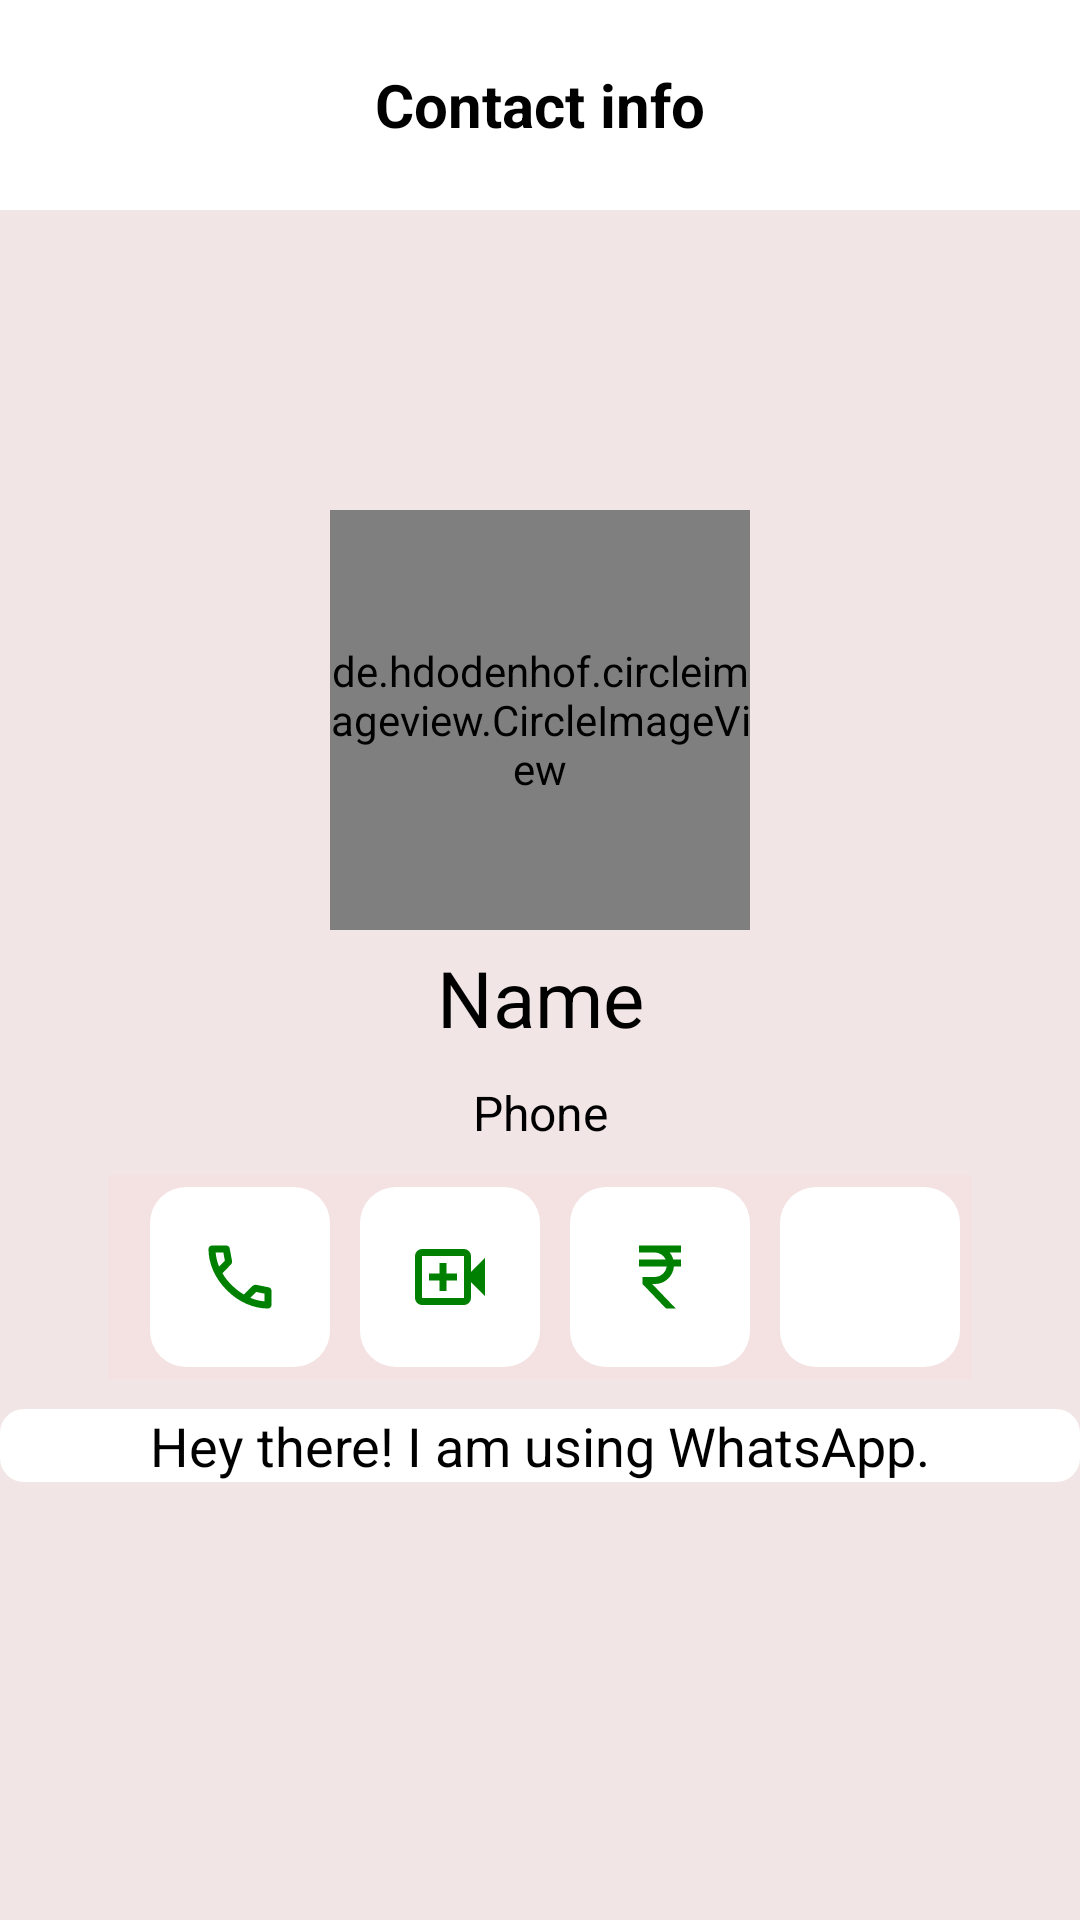

Icons on this 1080x1920 Android screen, each with its box as [left=x1, top=y1, right=x2, bottom=y2]:
Audio Call: [left=150, top=1187, right=330, bottom=1367]
Payment: [left=570, top=1187, right=750, bottom=1367]
Video Call: [left=360, top=1187, right=540, bottom=1367]
